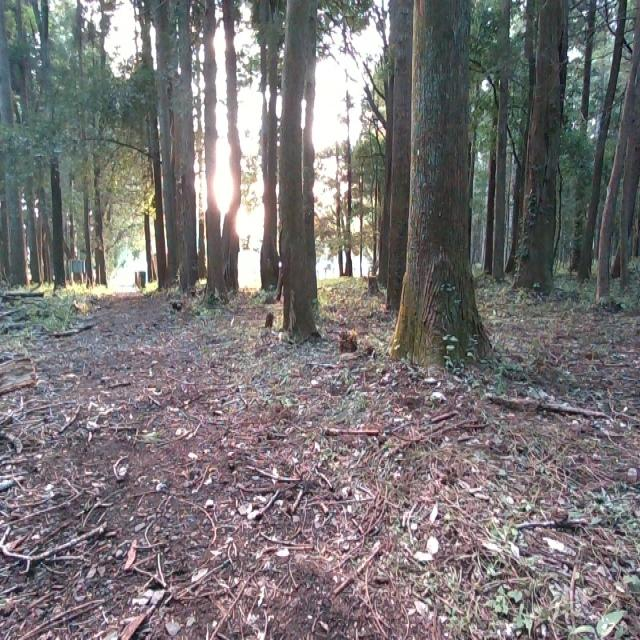tree: (391, 0, 500, 388), (274, 0, 326, 346), (149, 0, 200, 303), (515, 0, 564, 301), (594, 0, 639, 301), (201, 0, 242, 299), (379, 0, 418, 295), (0, 0, 36, 299), (33, 0, 70, 283), (331, 0, 359, 280), (88, 0, 111, 287)
